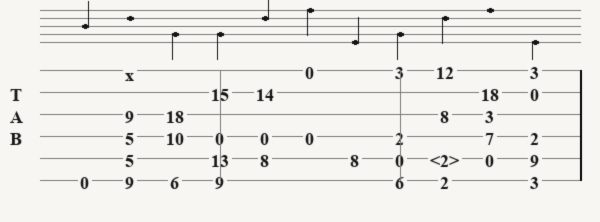0: (80, 172, 93, 188), (215, 128, 228, 144), (260, 128, 273, 144), (305, 128, 318, 144), (305, 62, 318, 78), (395, 150, 408, 166), (485, 150, 498, 166), (530, 84, 543, 100)
10: (166, 128, 188, 144)
12: (436, 62, 458, 78)
13: (211, 150, 233, 166)
14: (256, 84, 278, 100)
15: (211, 84, 233, 100)
18: (166, 106, 188, 122), (481, 84, 503, 100)
2: (395, 128, 408, 144), (440, 172, 453, 188), (530, 128, 543, 144)
3: (395, 62, 408, 78), (485, 106, 498, 122), (530, 62, 543, 78), (530, 172, 543, 188)
5: (125, 128, 138, 144), (125, 150, 138, 166)
6: (170, 172, 183, 188), (395, 172, 408, 188)
7: (485, 128, 498, 144)
8: (260, 150, 273, 166), (350, 150, 363, 166), (440, 106, 453, 122)
9: (125, 106, 138, 122), (125, 172, 138, 188), (215, 172, 228, 188), (530, 150, 543, 166)
harmonic: (430, 150, 463, 166)
x: (125, 64, 138, 76)
